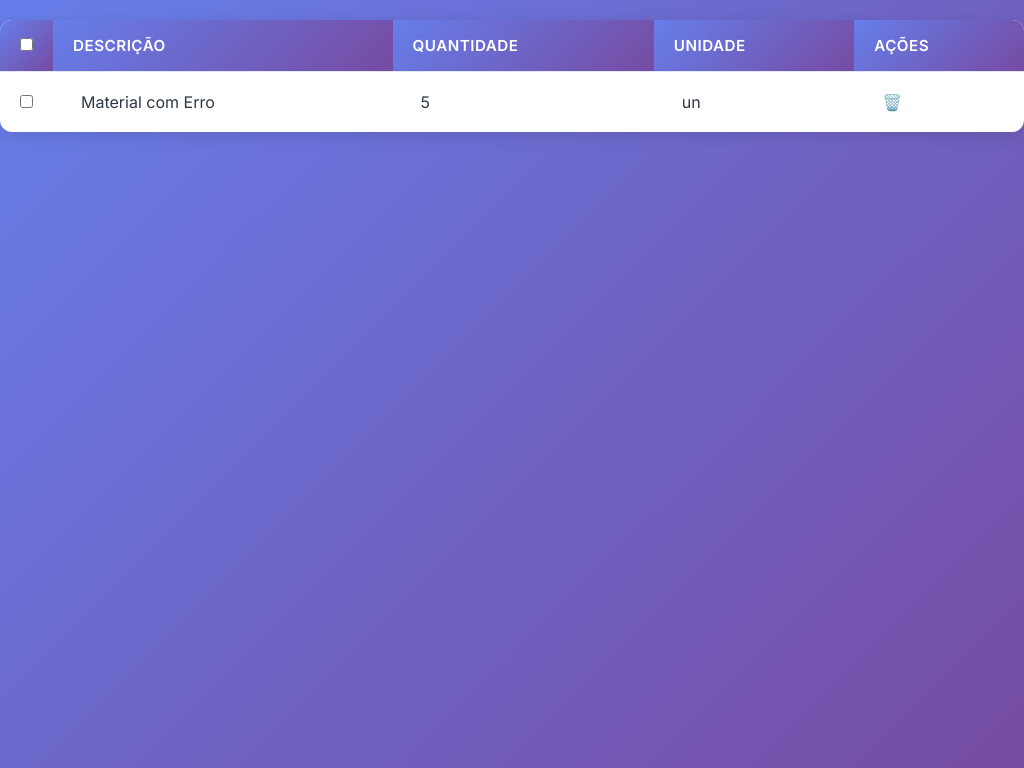
it: MaterialsTable › handles API error during material deletion
The width and height of the screenshot is (1024, 768).
Check: the text "Material com Erro" is shown, box [81,92,215,112]
Click the button titled "Excluir material": (892, 102) [874,88,910,116]
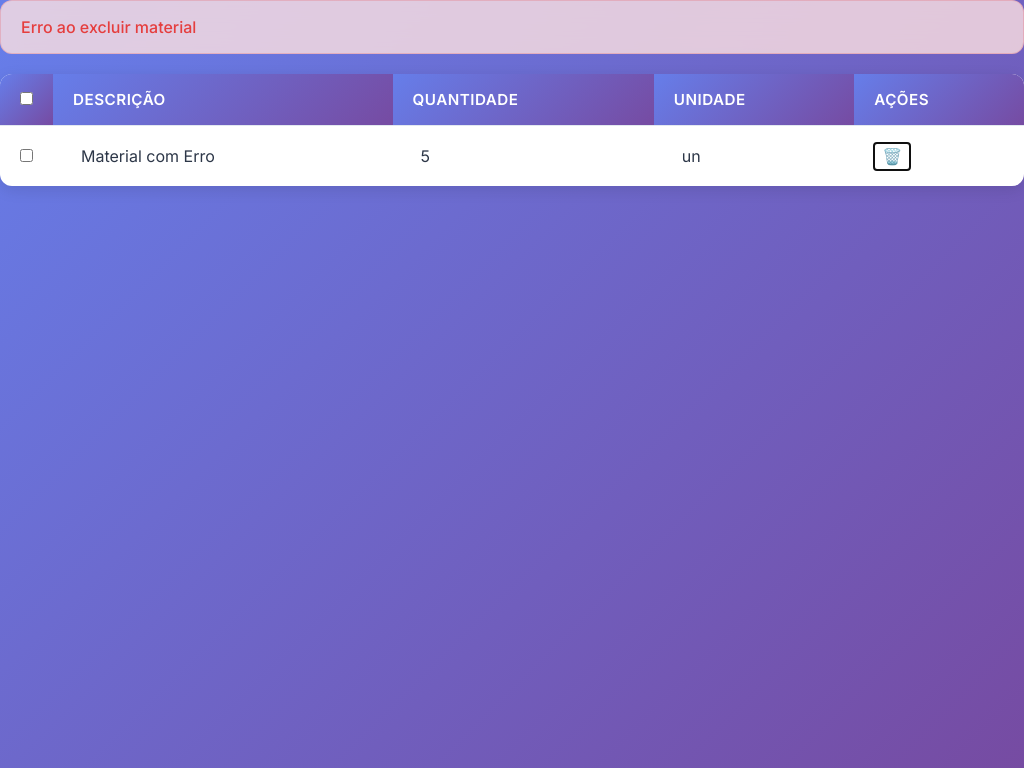
Check: the text "Material com Erro" is shown, box [81,146,215,166]
Check: the text "Erro ao excluir material" is shown, box [0,0,1023,54]
